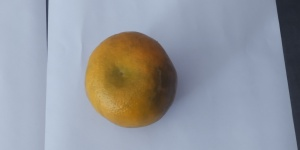BAD: (84, 30, 180, 129)
